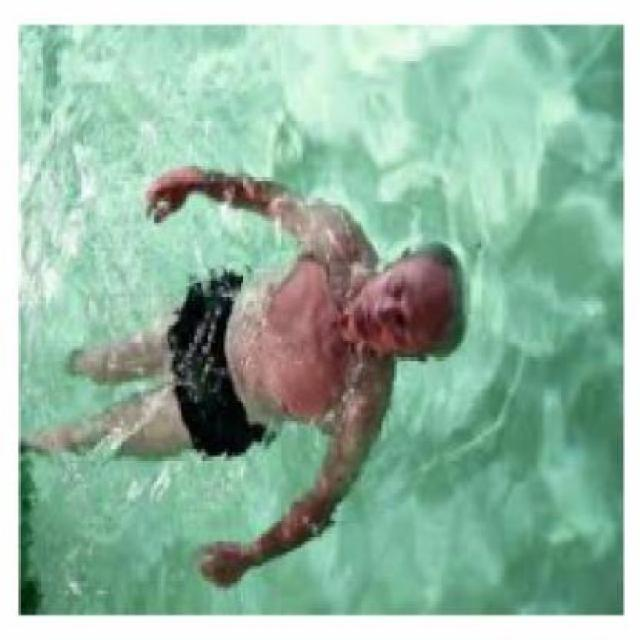drowning: (90, 163, 468, 574)
